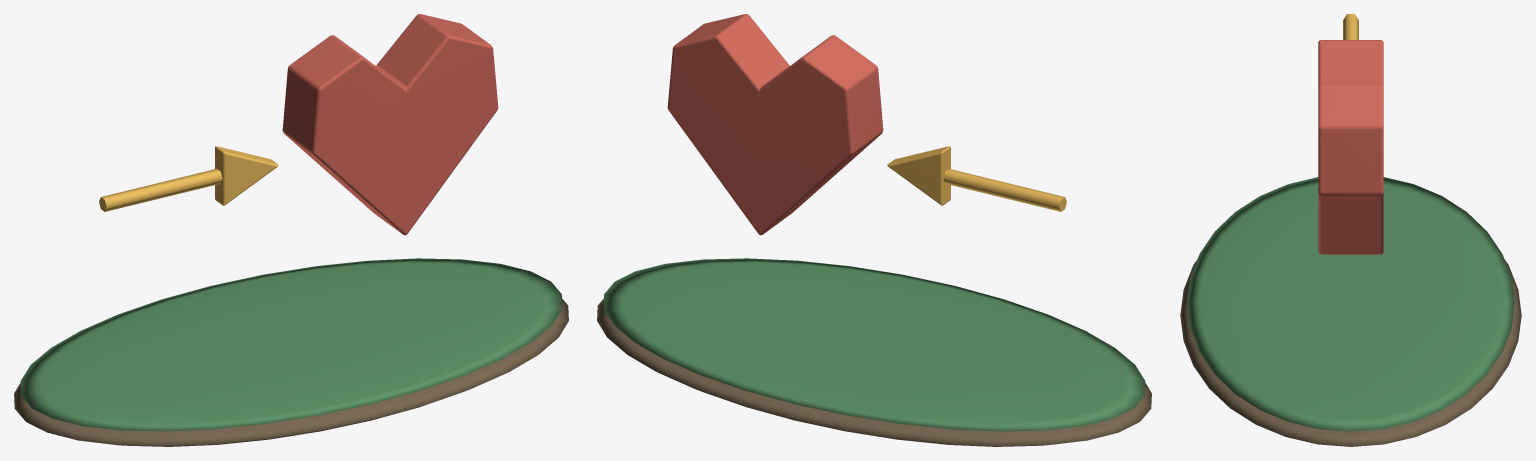
File: released-heart.glb
3 views of the same model, side by side, from view 1: azimuth 30°, elevation 25°; view 2: azimuth 150°, elevation 25°; view 3: azimuth 270°, elevation 25° (orthographic).
Visible parts, largest first — view 1: released-heart_surface_01, released-heart_surface_03, released-heart_surface_00, released-heart_surface_02; view 2: released-heart_surface_01, released-heart_surface_03, released-heart_surface_00, released-heart_surface_02; view 3: released-heart_surface_01, released-heart_surface_03, released-heart_surface_00, released-heart_surface_02.
Part boxes in pixels (x1,y1,x2,y2): released-heart_surface_01: (20, 258, 562, 431); released-heart_surface_03: (282, 14, 498, 235); released-heart_surface_00: (14, 298, 568, 446); released-heart_surface_02: (99, 146, 278, 211); released-heart_surface_01: (603, 258, 1145, 431); released-heart_surface_03: (667, 14, 883, 235); released-heart_surface_00: (597, 298, 1151, 446); released-heart_surface_02: (887, 146, 1066, 211); released-heart_surface_01: (1187, 177, 1514, 431); released-heart_surface_03: (1318, 40, 1383, 254); released-heart_surface_00: (1180, 259, 1521, 446); released-heart_surface_02: (1343, 14, 1358, 39).
Size of the model in its own units: 4.56 by 2.57 by 2.5.
